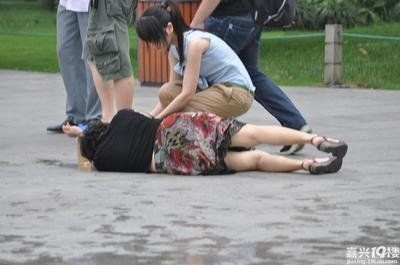falling: (57, 104, 351, 178)
